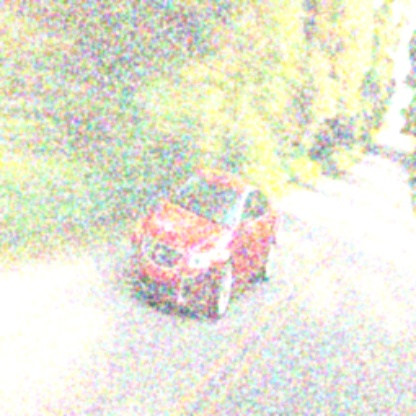Vehicle: (130, 168, 280, 319)
